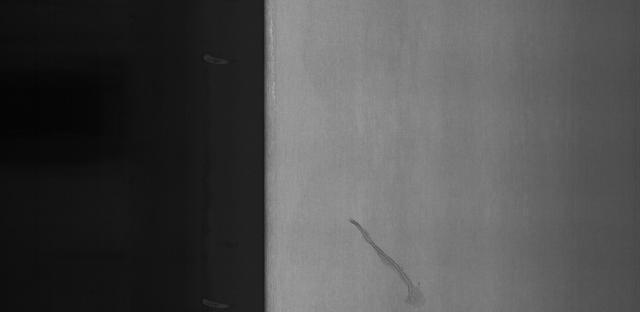water_spot: (345, 209, 437, 308)
